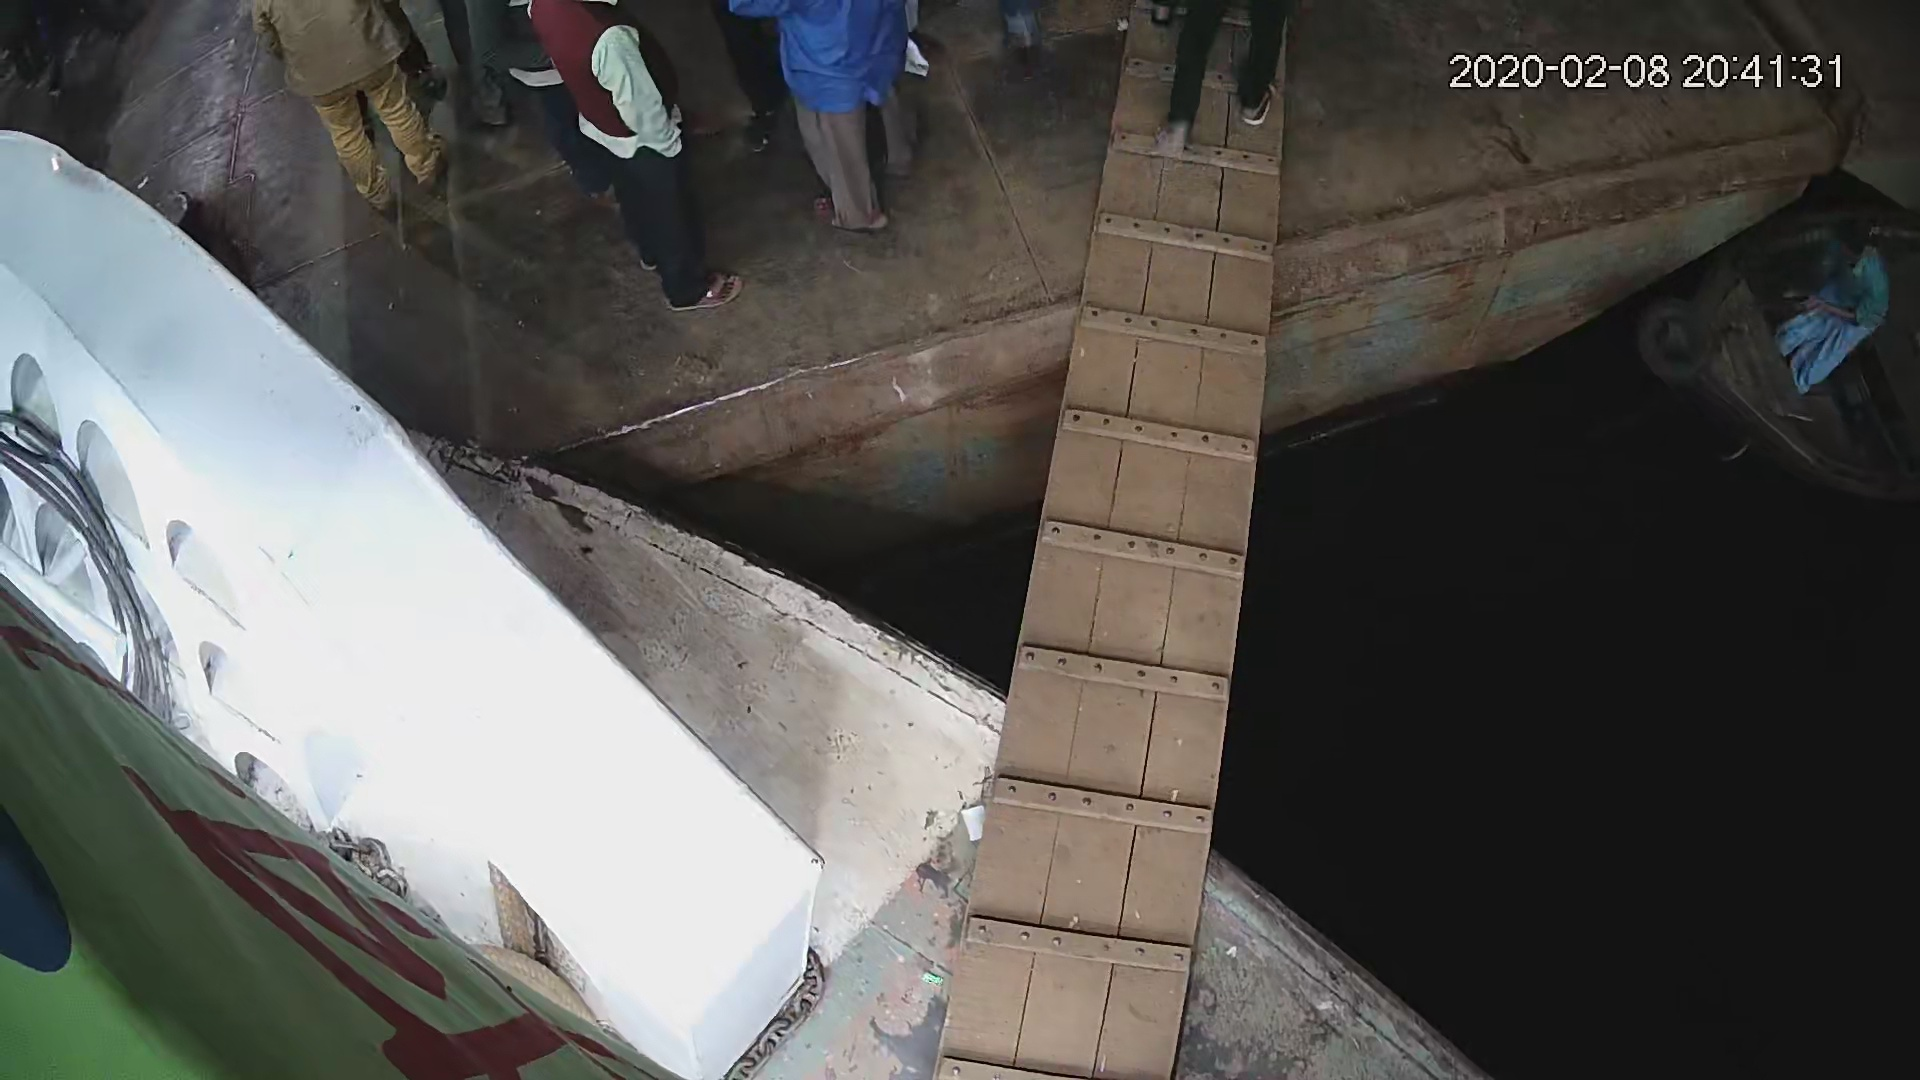person: (531, 1, 750, 322), (767, 1, 919, 241), (1767, 211, 1890, 393)
